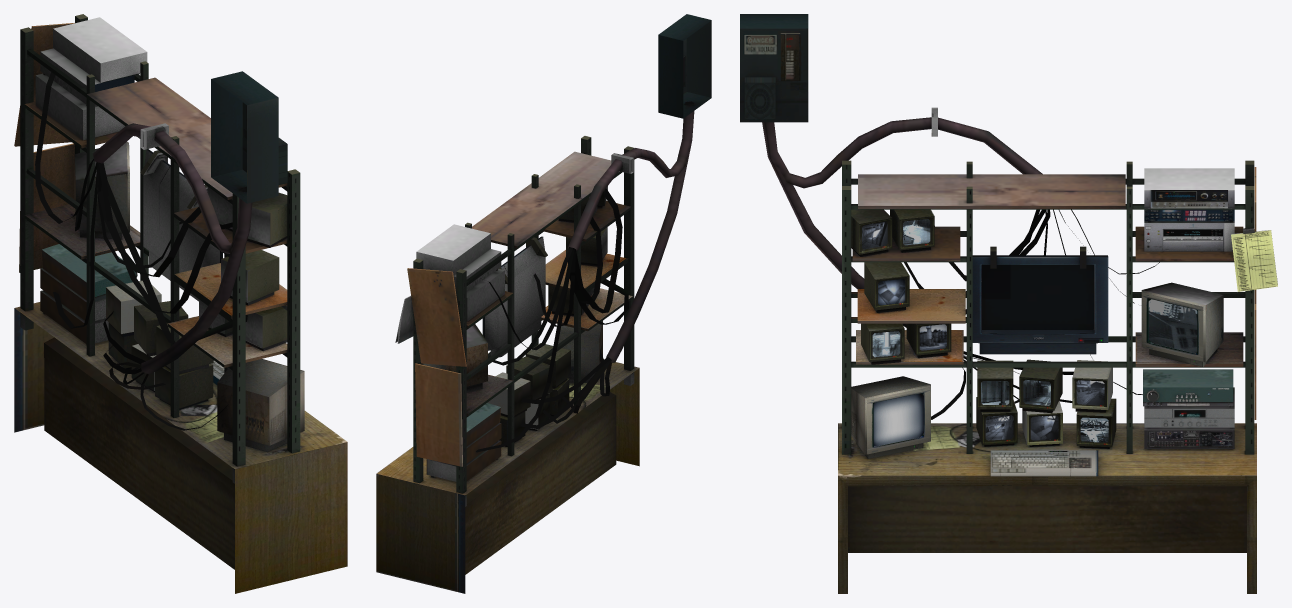
The model's file is securitybank.glb.
The picture shows the model from 3 angles, left to right: view 1: azimuth 30°, elevation 25°; view 2: azimuth 150°, elevation 25°; view 3: azimuth 270°, elevation 25°; orthographic projection. The views are drawn at different scales.
Parts seen in each view (by area): view 1: securitybank; view 2: securitybank; view 3: securitybank.
Boxes of the visible parts, x1,y1,x2,y2 form: securitybank: (14, 14, 347, 593); securitybank: (376, 14, 711, 593); securitybank: (740, 14, 1277, 593).
Bounding box in the file's own units: 0.8546 × 2.77 × 2.65.
3 materials, 3 textured.
